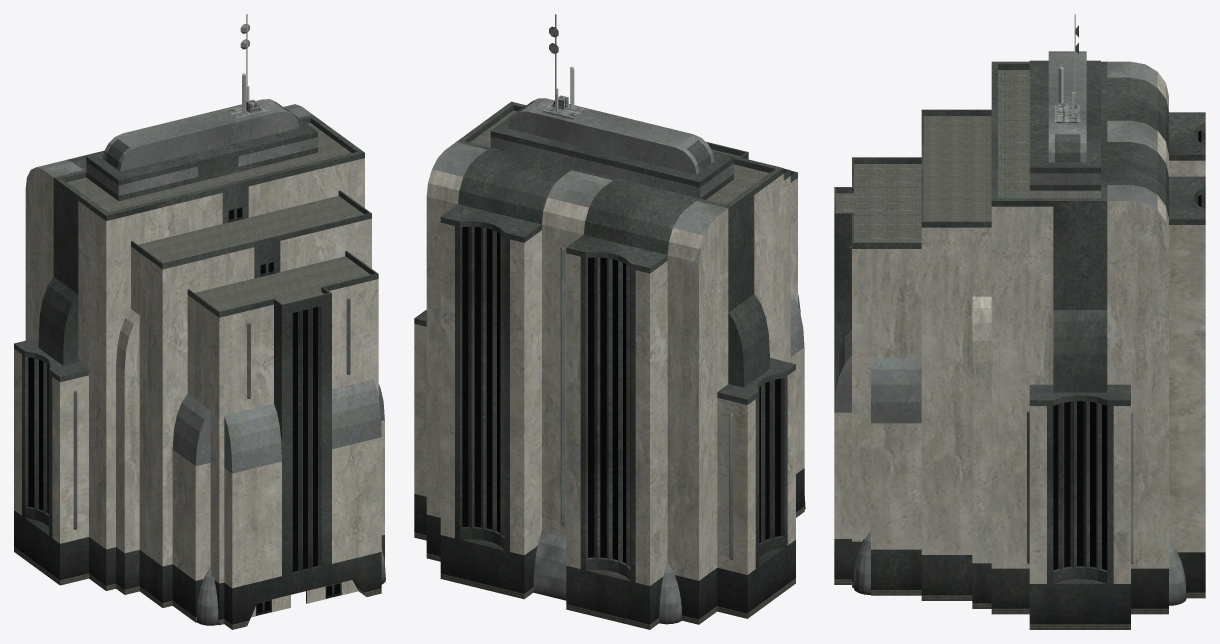
The model's file is thm_corl_imprv_building_s04_r0_mesh_l1.fbx.
3 views of the same model, side by side, from view 1: azimuth 30°, elevation 25°; view 2: azimuth 150°, elevation 25°; view 3: azimuth 270°, elevation 25° (orthographic). The views are drawn at different scales.
Visible parts, largest first — view 1: mesh_node; view 2: mesh_node; view 3: mesh_node.
Boxes of the visible parts, <box> form: mesh_node: <box>14,14,385,629</box>; mesh_node: <box>414,14,805,629</box>; mesh_node: <box>834,14,1205,629</box>.
Bounding box in the file's own units: 63.59 × 97 × 58.59.
